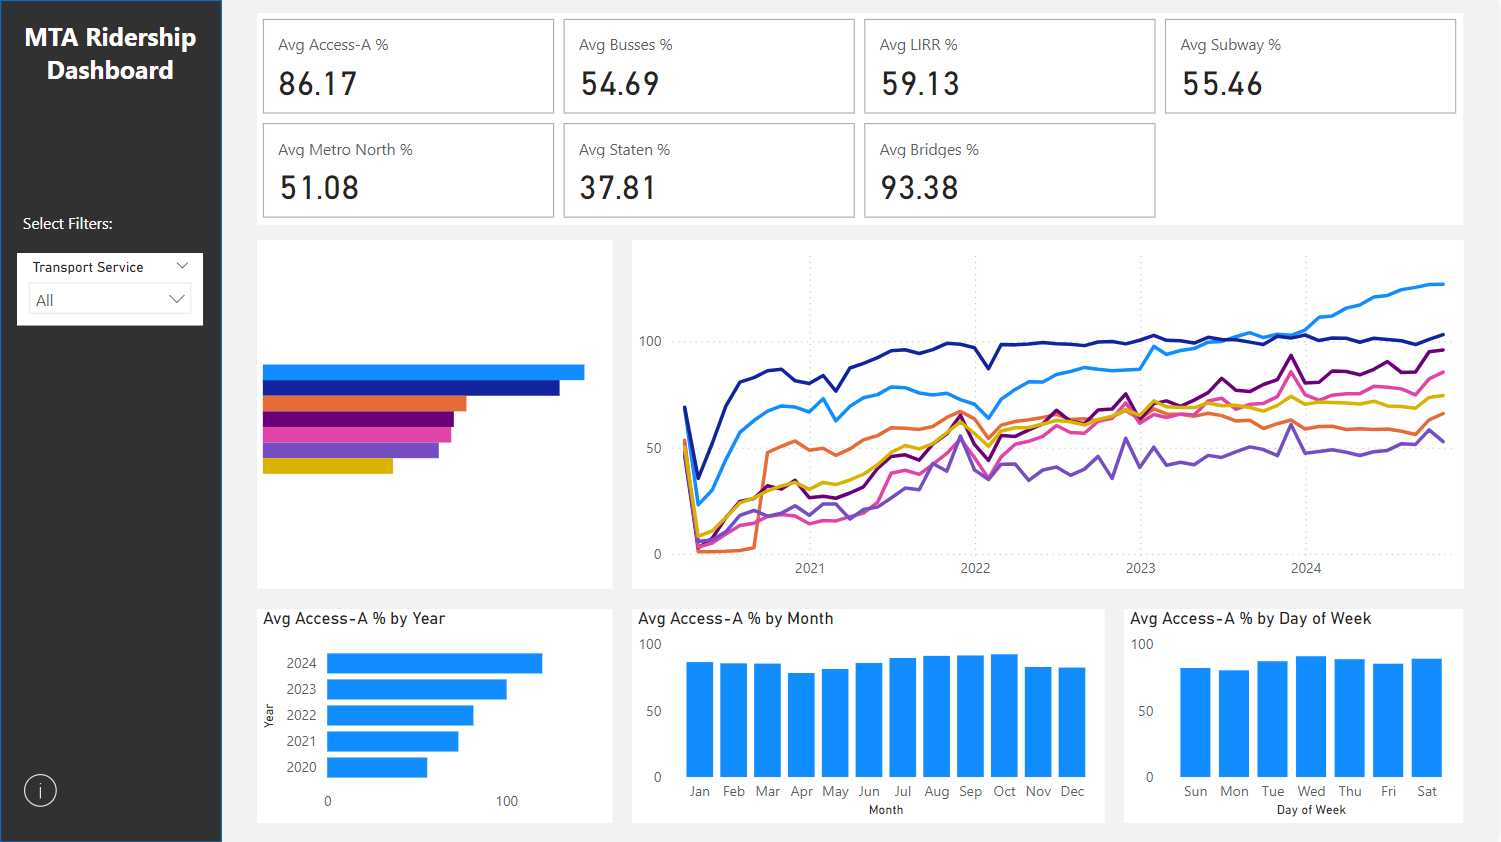

Layout of this report page (visuals, bound fields, positions):
{"tool":"powerbi","page":{"name":"Page 1","canvas":[1280,720],"ordinal":0},"visuals":[{"type":"cardVisual","fields":{"Data":["Measures (2).Avg Access-A","Measures (2).Avg Busses","Measures (2).Avg LIRR %","Measures (2).Avg Subway","Measures (2).Avg Metro North %","Measures (2).Avg Staten %","Measures (2).Avg Bridges %"]},"box":[220,11.3,1031.3,180.9],"z":0},{"type":"clusteredBarChart","fields":{"Y":["Measures (2).Avg Bridges %","Measures (2).Avg Access-A %","Measures (2).Avg LIRR %","Measures (2).Avg Subway %","Measures (2).Avg Busses %","Measures (2).Avg Metro North %","Measures (2).Avg Staten %"]},"box":[220,205.2,304.3,298.3],"z":1000},{"type":"lineChart","fields":{"Category":["Date.eomonth"],"Y":["Measures (2).Avg Access-A %","Measures (2).Avg Bridges %","Measures (2).Avg Busses %","Measures (2).Avg LIRR %","Measures (2).Avg Metro North %","Measures (2).Avg Staten %","Measures (2).Avg Subway %"]},"box":[540,205.2,711.3,298.3],"z":2000},{"type":"columnChart","fields":{"Category":["Date.Day of Week"],"Y":["Measures (2).Avg Access-A %"]},"box":[960.9,520.9,290.4,182.6],"z":3000},{"type":"columnChart","fields":{"Y":["Measures (2).Avg Access-A %"],"Category":["Date.Month"]},"box":[540,520.9,404.3,182.6],"z":4000},{"type":"shape","box":[0,0,189.6,720],"z":5000},{"type":"barChart","fields":{"Category":["Date.Year"],"Y":["Measures (2).Avg Access-A %"]},"box":[220,520.9,304.3,182.6],"z":5001},{"type":"textbox","box":[14.8,11.3,159.1,94.8],"z":5002},{"type":"slicer","fields":{"Values":["Date.Year"]},"box":[14.8,216.5,159.1,61.7],"z":5003},{"type":"textbox","box":[14.8,176.5,159.1,30.4],"z":5004},{"type":"actionButton","box":[14.8,655.7,49.6,40],"z":5005}]}

Visuals, with their boxes in screenshot pixels (x1, y1, x2, y2), scaled from the page's 1280x720 canvas onto the 1501x842 screenshot:
cardVisual - Measures (2).Avg Access-A x Measures (2).Avg Busses: region(258, 13, 1467, 225)
clusteredBarChart - Measures (2).Avg Bridges % x Measures (2).Avg Access-A %: region(258, 240, 615, 589)
lineChart - Date.eomonth x Measures (2).Avg Access-A %: region(633, 240, 1467, 589)
columnChart - Date.Day of Week x Measures (2).Avg Access-A %: region(1127, 609, 1467, 823)
columnChart - Measures (2).Avg Access-A % x Date.Month: region(633, 609, 1107, 823)
shape: region(0, 0, 222, 841)
barChart - Date.Year x Measures (2).Avg Access-A %: region(258, 609, 615, 823)
textbox: region(17, 13, 204, 124)
slicer - Date.Year: region(17, 253, 204, 325)
textbox: region(17, 206, 204, 242)
actionButton: region(17, 767, 76, 814)
